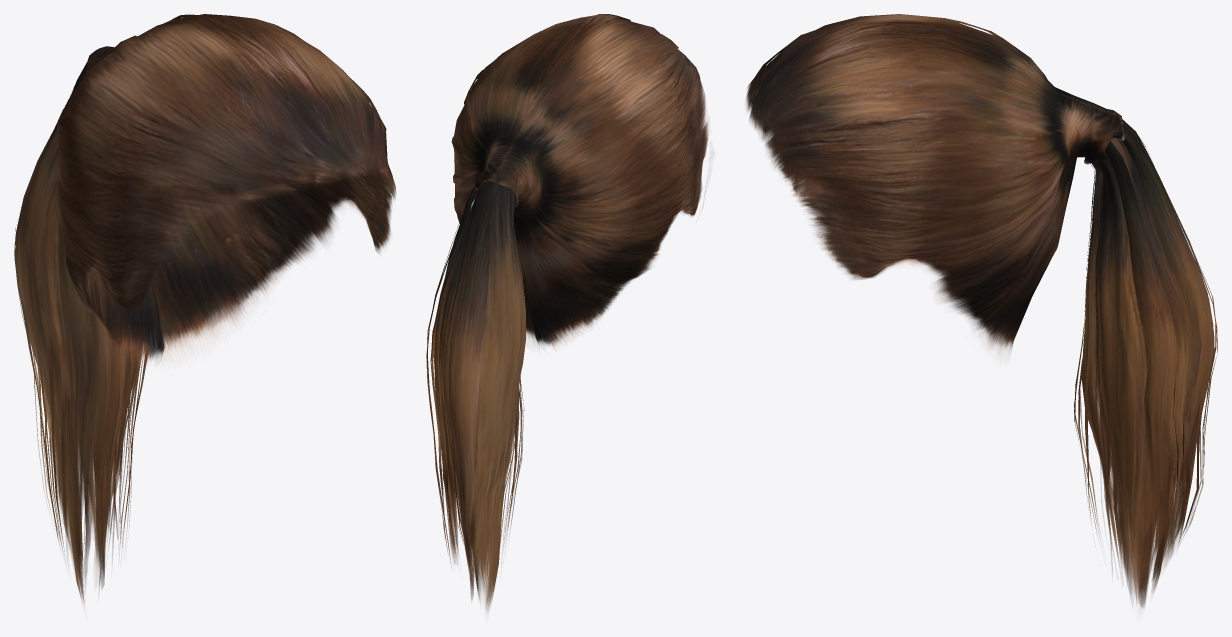
Rendered from hair_ponytail.glb.
3 views of the same model, side by side, from view 1: azimuth 30°, elevation 25°; view 2: azimuth 150°, elevation 25°; view 3: azimuth 270°, elevation 25° (orthographic). The views are drawn at different scales.
Visible parts, largest first — view 1: Human.ponytail01; view 2: Human.ponytail01; view 3: Human.ponytail01.
Part boxes in pixels (left/top/right/bottom): Human.ponytail01: left=14, top=14, right=396, bottom=605; Human.ponytail01: left=426, top=14, right=708, bottom=612; Human.ponytail01: left=746, top=14, right=1217, bottom=608.
Size of the model in its own units: 0.1582 by 0.3857 by 0.2744.
1 material, 1 textured.
